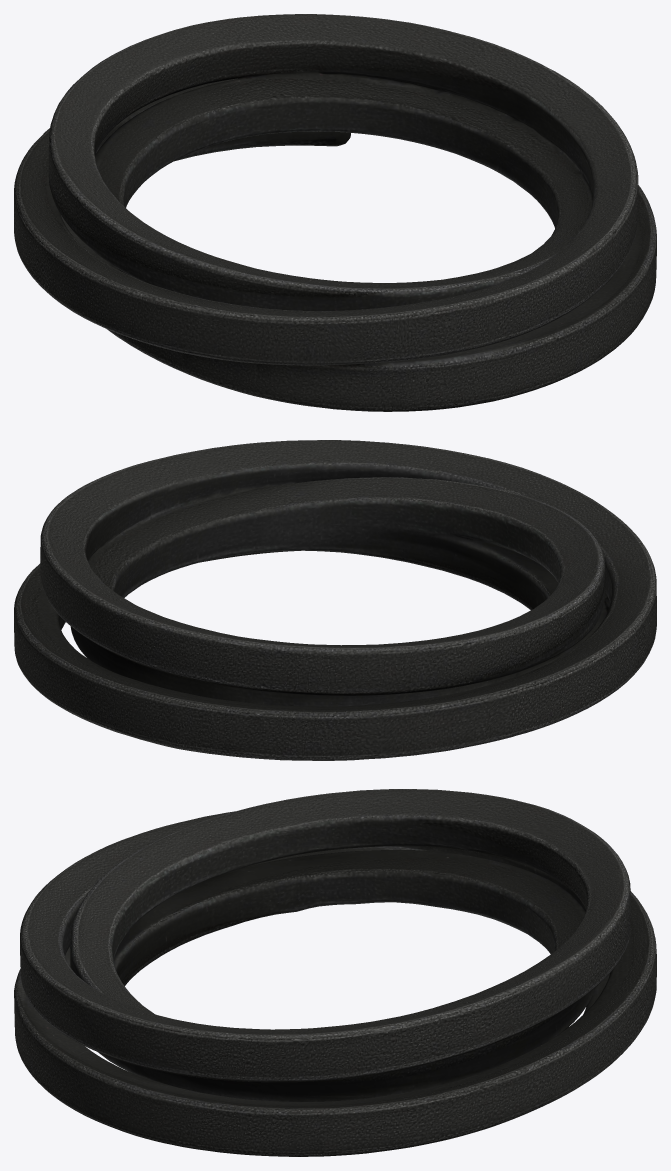
File: belt.glb
The picture shows the model from 3 angles, top to bottom: view 1: azimuth 30°, elevation 25°; view 2: azimuth 150°, elevation 25°; view 3: azimuth 270°, elevation 25°; orthographic projection.
Visible parts, largest first — view 1: tripo_node_a26de6be-990a-4c1f-9d42-1586507257f0; view 2: tripo_node_a26de6be-990a-4c1f-9d42-1586507257f0; view 3: tripo_node_a26de6be-990a-4c1f-9d42-1586507257f0.
Boxes of the visible parts, box(x1,y1,x2,y2) form: tripo_node_a26de6be-990a-4c1f-9d42-1586507257f0: box(14, 14, 656, 411); tripo_node_a26de6be-990a-4c1f-9d42-1586507257f0: box(14, 440, 656, 760); tripo_node_a26de6be-990a-4c1f-9d42-1586507257f0: box(14, 789, 656, 1156).
Size of the model in its own units: 0.9762 by 0.255 by 0.979.
1 material, 1 textured.
